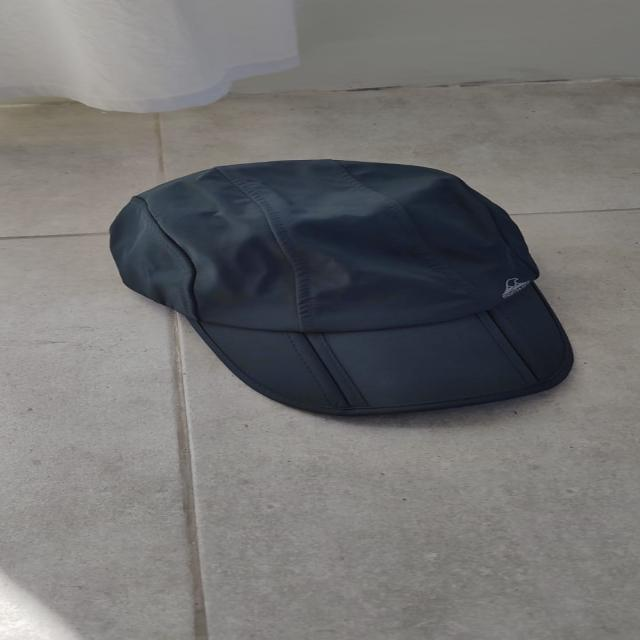Gorra: (98, 156, 609, 435)
